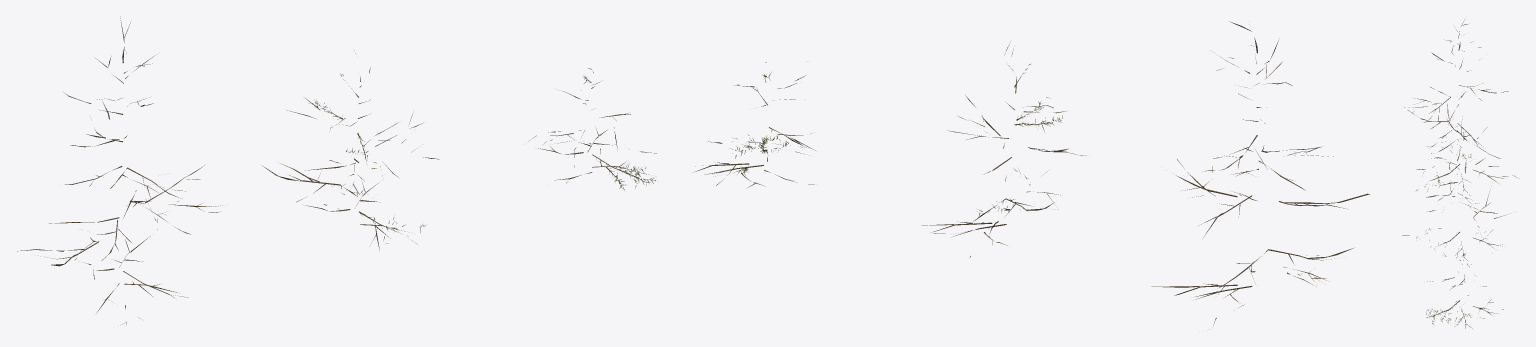
File: fir_sapling_lo.glb
The picture shows the model from 3 angles, left to right: view 1: azimuth 30°, elevation 25°; view 2: azimuth 150°, elevation 25°; view 3: azimuth 270°, elevation 25°; orthographic projection. The views are drawn at different scales.
Parts seen in each view (by area): view 1: fir_sapling_a; view 2: fir_sapling_a; view 3: fir_sapling_a.
Part boxes in pixels (x1,y1,x2,y2): fir_sapling_a: (17, 16, 656, 324); fir_sapling_a: (695, 21, 1369, 324); fir_sapling_a: (1402, 20, 1518, 328).
Size of the model in its own units: 2.67 by 1.18 by 0.7537.
Materials: 1 (1 with a texture image).
